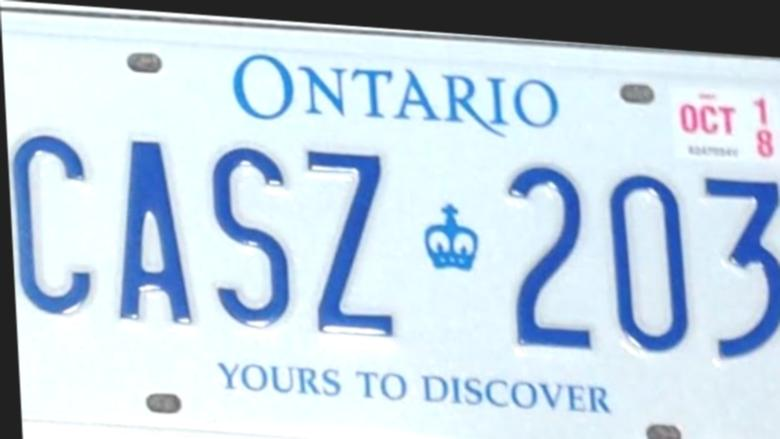License_Plate: (6, 45, 780, 439)
